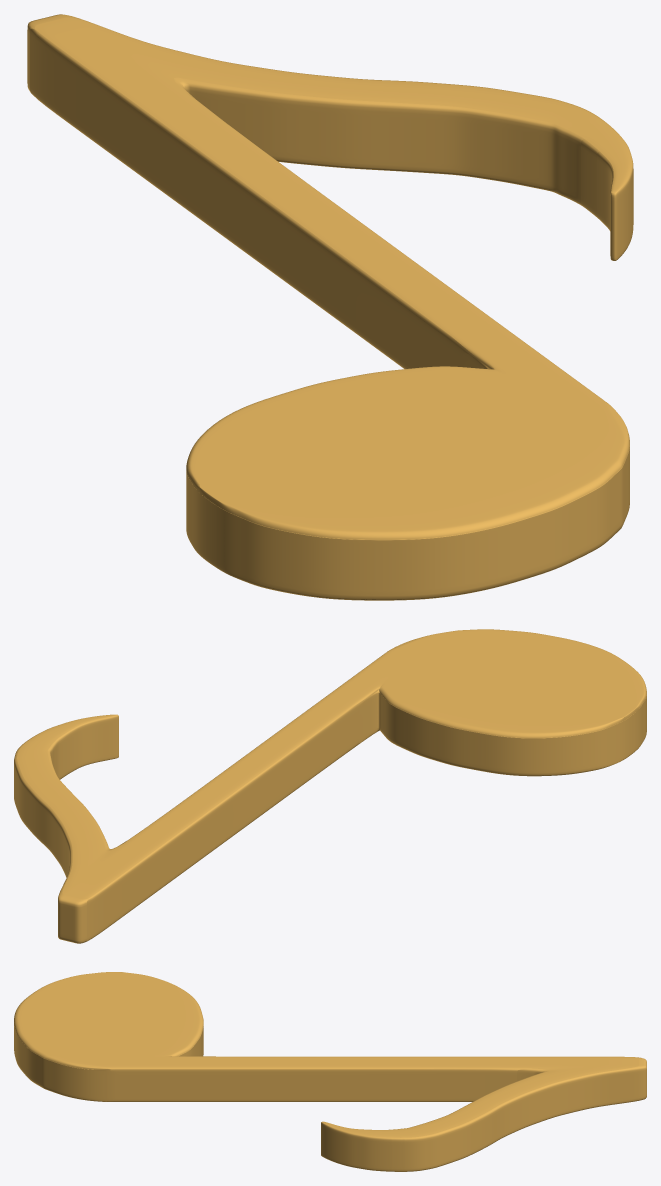
File: note3.fbx
3 views of the same model, one above another, from view 1: azimuth 30°, elevation 25°; view 2: azimuth 150°, elevation 25°; view 3: azimuth 270°, elevation 25° (orthographic). The views are drawn at different scales.
Parts seen in each view (by area): view 1: Note-1; view 2: Note-1; view 3: Note-1.
Boxes of the visible parts, x1,y1,x2,y2 form: Note-1: (27, 14, 633, 600); Note-1: (14, 629, 646, 943); Note-1: (14, 972, 646, 1171).
Size of the model in its own units: 163 by 15.67 by 261.
